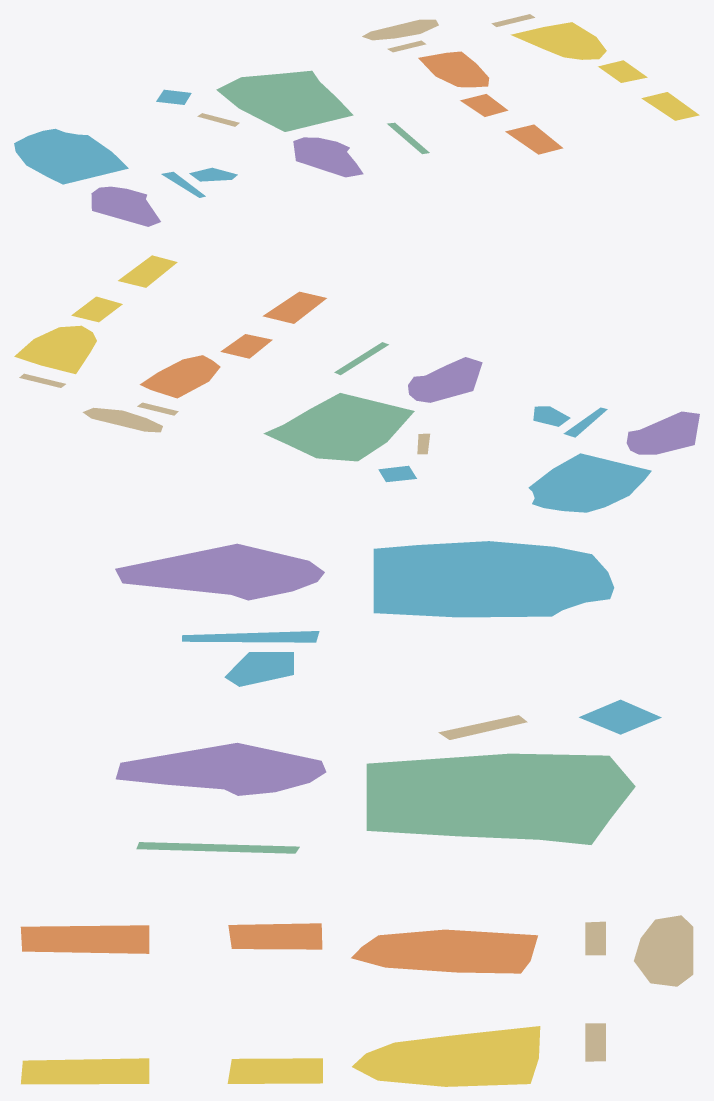
The model's file is garment_pattern_2d_color_100x_0.1mm_per_pixel.obj.
The picture shows the model from 3 angles, top to bottom: view 1: azimuth 30°, elevation 25°; view 2: azimuth 150°, elevation 25°; view 3: azimuth 270°, elevation 25°; orthographic projection. The views are drawn at different scales.
Parts seen in each view (by area): view 1: back_torso, front_torso, pants_back, sleeve_left, sleeve_right, pants_front, calf_pocket_left, collar, calf_pocket_right, pocket_right, pocket_left, small_zip_panel (+1 smaller); view 2: back_torso, front_torso, pants_back, sleeve_left, sleeve_right, pants_front, calf_pocket_left, collar, calf_pocket_right, pocket_right, pocket_left, small_zip_panel (+1 smaller); view 3: back_torso, front_torso, pants_back, sleeve_left, sleeve_right, pants_front, calf_pocket_left, collar, calf_pocket_right, pocket_right, pocket_left, small_zip_panel (+4 smaller).
Part boxes in pixels (x1,y1,x2,y2): back_torso: [216, 70, 353, 131]; front_torso: [14, 128, 128, 184]; pants_back: [510, 22, 606, 59]; sleeve_left: [91, 186, 160, 226]; sleeve_right: [293, 137, 363, 177]; pants_front: [418, 51, 489, 87]; calf_pocket_left: [505, 124, 563, 154]; collar: [362, 19, 438, 40]; calf_pocket_right: [641, 92, 699, 120]; pocket_right: [598, 60, 647, 82]; pocket_left: [460, 94, 508, 116]; small_zip_panel: [189, 167, 237, 181]; back_torso: [263, 393, 414, 461]; front_torso: [528, 453, 651, 512]; pants_back: [14, 325, 96, 374]; sleeve_left: [626, 411, 699, 454]; sleeve_right: [408, 357, 482, 402]; pants_front: [139, 355, 220, 398]; calf_pocket_left: [262, 291, 326, 323]; collar: [82, 407, 162, 432]; calf_pocket_right: [118, 255, 177, 287]; pocket_right: [71, 296, 122, 322]; pocket_left: [220, 334, 272, 358]; small_zip_panel: [533, 406, 570, 426]; back_torso: [366, 753, 635, 844]; front_torso: [373, 541, 614, 617]; pants_back: [352, 1026, 540, 1086]; sleeve_left: [115, 543, 324, 600]; sleeve_right: [115, 742, 326, 795]; pants_front: [351, 929, 537, 973]; calf_pocket_left: [20, 925, 149, 953]; collar: [634, 915, 693, 986]; calf_pocket_right: [21, 1058, 149, 1084]; pocket_right: [227, 1058, 322, 1083]; pocket_left: [228, 923, 322, 949]; small_zip_panel: [224, 652, 293, 686].
Bounding box in the file's own units: 0.2623 × 0 × 0.1366.
